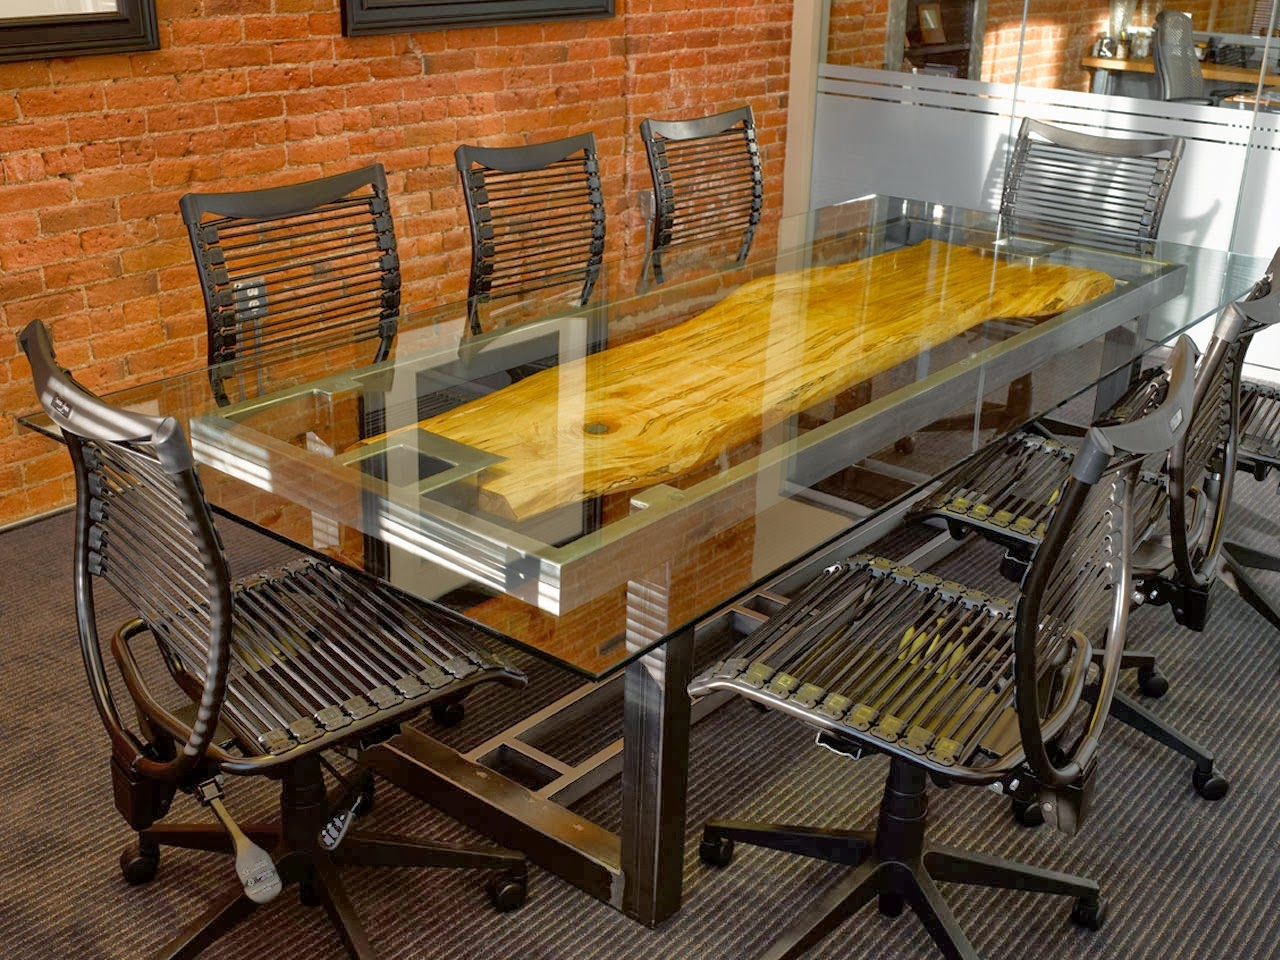conference_table: (19, 195, 1280, 678)
